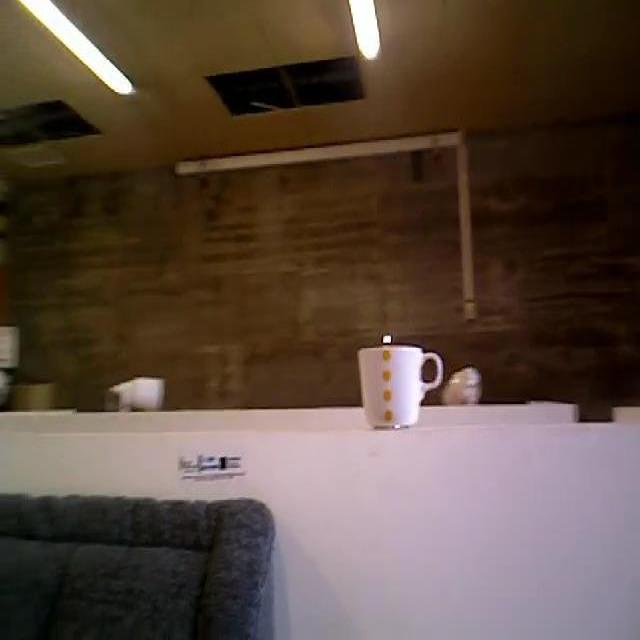cup: (356, 342, 445, 434)
